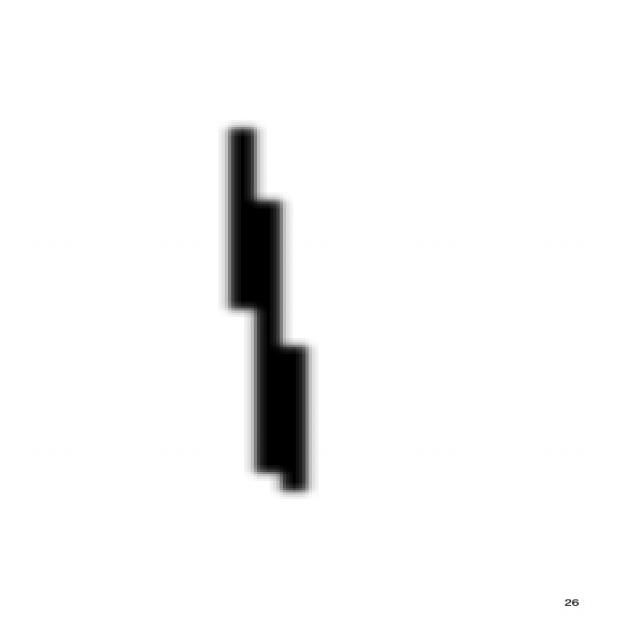1 -one-: (196, 101, 330, 506)
